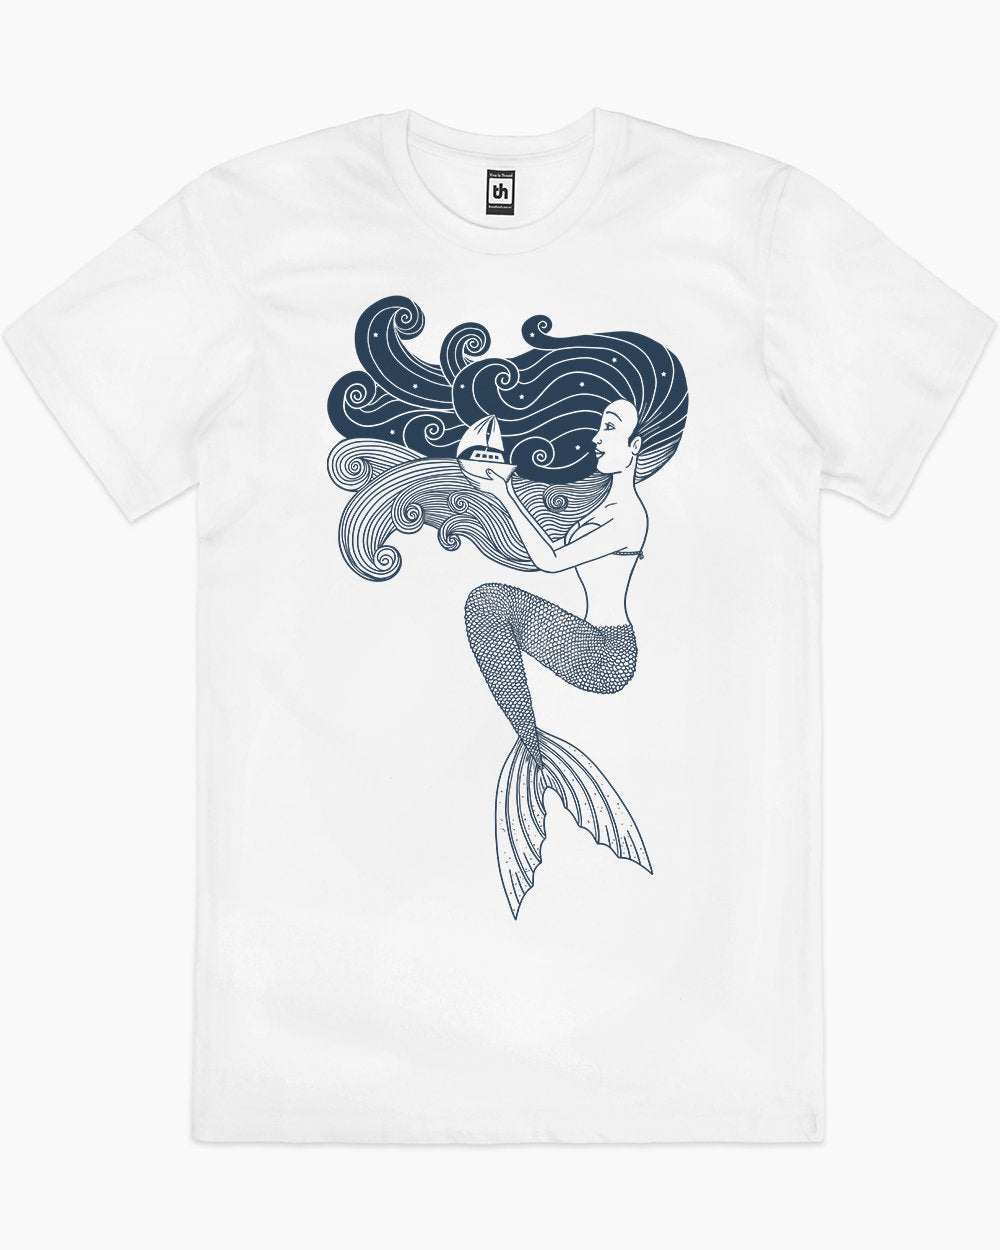design: (320, 289, 694, 924)
